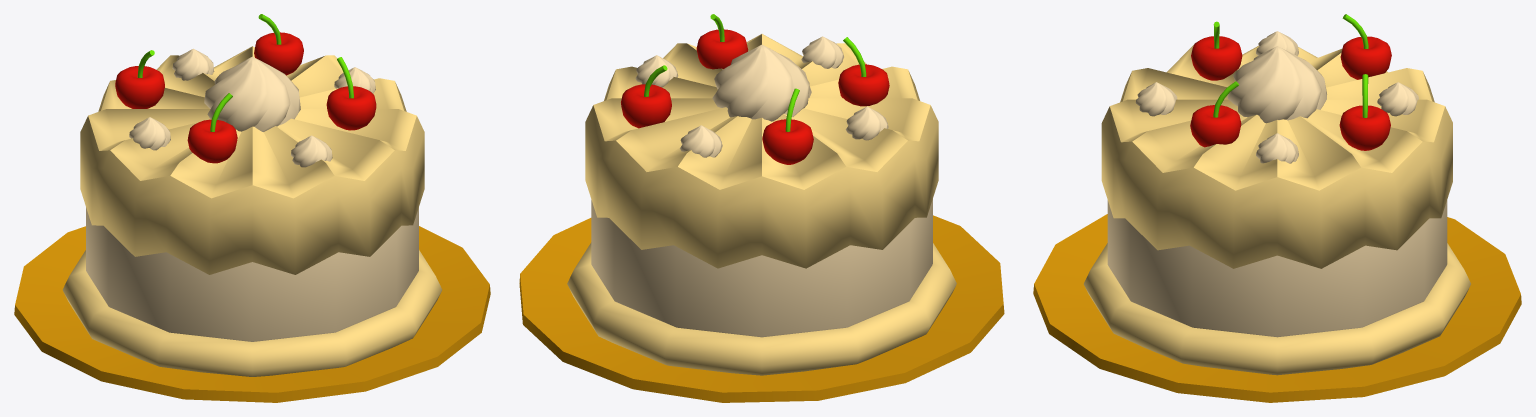
Rendered from Cake_02_Vanella.fbx.
3 renders of one model, left to right at view 1: azimuth 30°, elevation 25°; view 2: azimuth 150°, elevation 25°; view 3: azimuth 270°, elevation 25°, orthographic. The views are drawn at different scales.
Visible parts, largest first — view 1: Cake_02_Vanella; view 2: Cake_02_Vanella; view 3: Cake_02_Vanella.
Part boxes in pixels (bbox=[...]): Cake_02_Vanella: bbox=[14, 14, 490, 402]; Cake_02_Vanella: bbox=[519, 14, 1004, 402]; Cake_02_Vanella: bbox=[1033, 14, 1521, 402].
Bounding box in the file's own units: 88.35 × 54.38 × 88.35.
